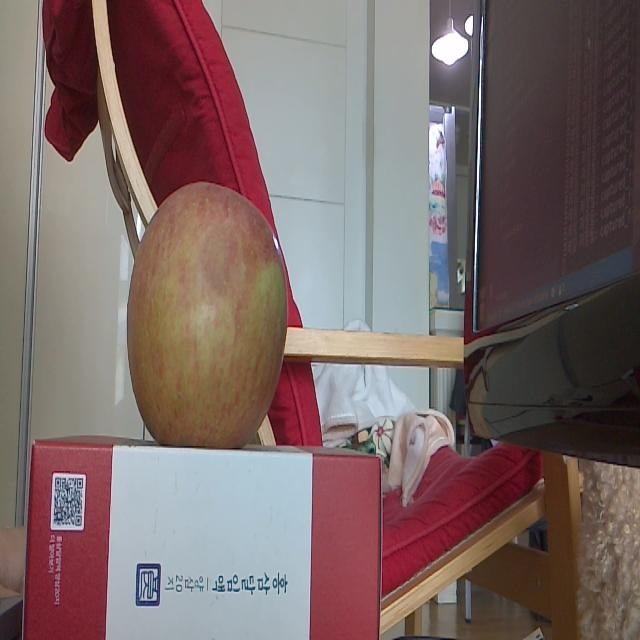apple: (126, 181, 291, 446)
